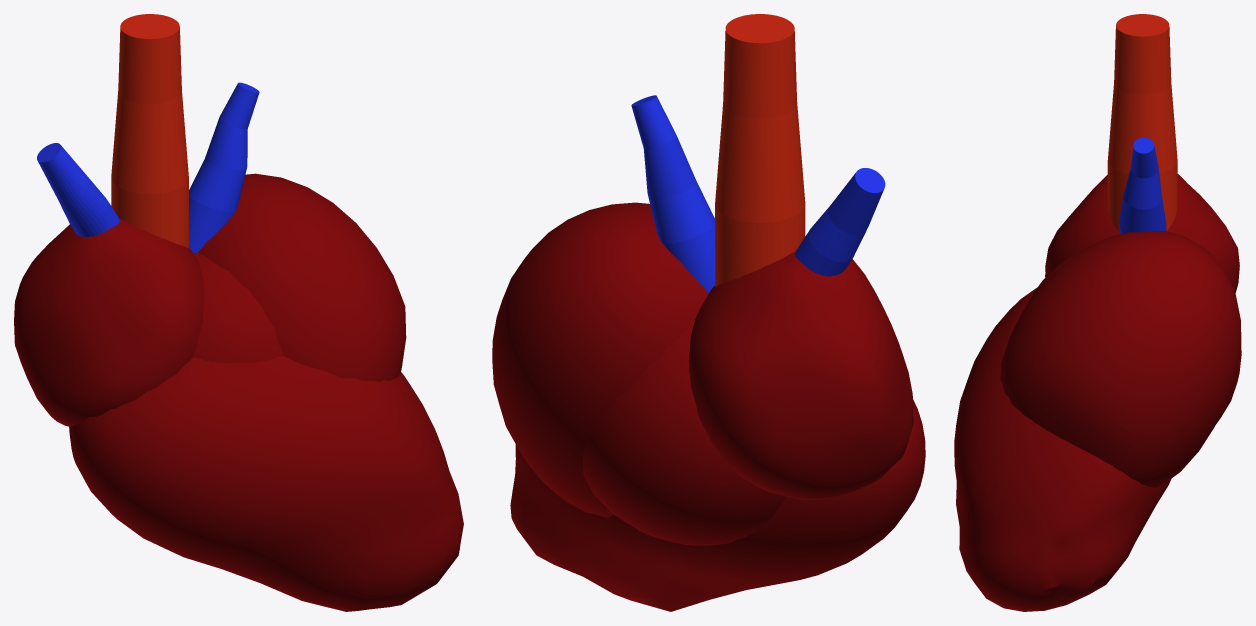
The model's file is FullHeart.glb.
3 views of the same model, side by side, from view 1: azimuth 30°, elevation 25°; view 2: azimuth 150°, elevation 25°; view 3: azimuth 270°, elevation 25° (orthographic). The views are drawn at different scales.
Visible parts, largest first — view 1: Heart; view 2: Heart; view 3: Heart.
Boxes of the visible parts, x1,y1,x2,y2 form: Heart: (14,14,463,611); Heart: (492,14,925,611); Heart: (954,14,1241,611).
Size of the model in its own units: 3.78 by 5.59 by 2.85.
